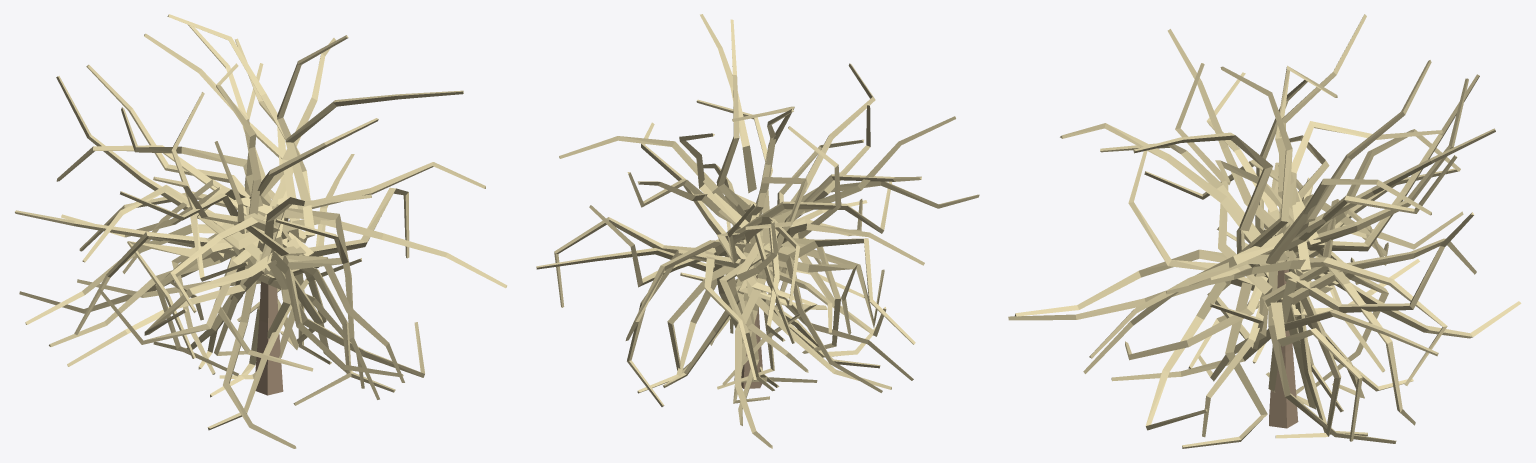
Rendered from SM_Desert_DryShrub_A.glb.
3 views of the same model, side by side, from view 1: azimuth 30°, elevation 25°; view 2: azimuth 150°, elevation 25°; view 3: azimuth 270°, elevation 25° (orthographic). The views are drawn at different scales.
Visible parts, largest first — view 1: SM_Desert_DryShrub_A; view 2: SM_Desert_DryShrub_A; view 3: SM_Desert_DryShrub_A.
Part boxes in pixels (x1,y1,x2,y2): SM_Desert_DryShrub_A: [15, 14, 507, 448]; SM_Desert_DryShrub_A: [536, 14, 979, 448]; SM_Desert_DryShrub_A: [1008, 14, 1521, 448].
Size of the model in its own units: 0.8305 by 0.7785 by 0.9507.
